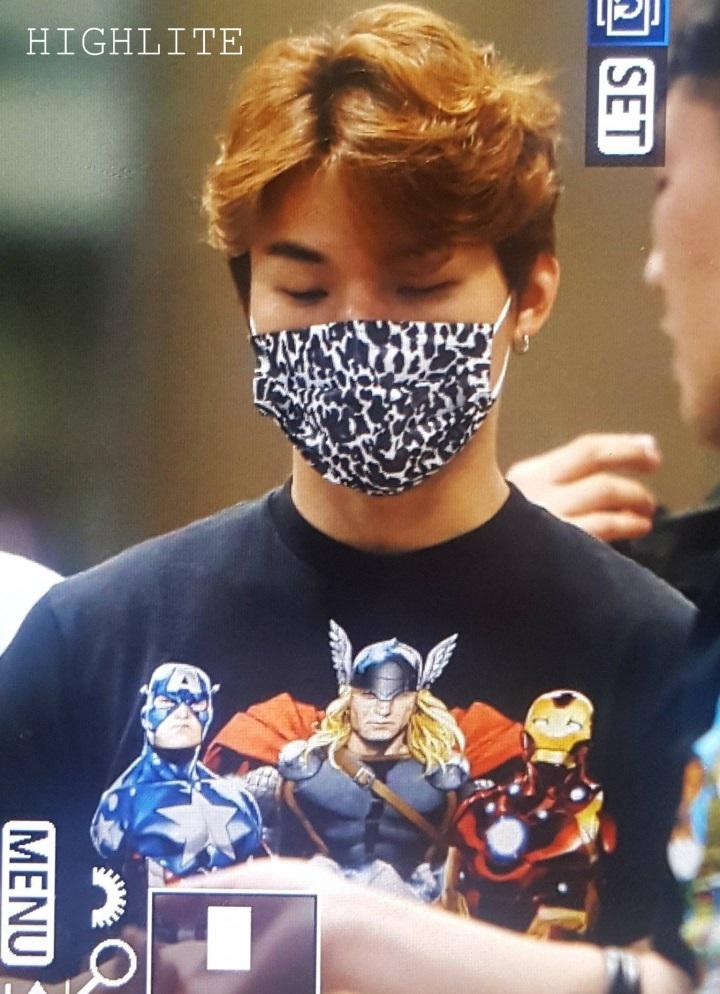NONE: (637, 131, 720, 429)
OK: (244, 226, 511, 493)
